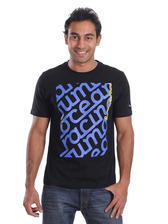clothoes: (28, 57, 135, 189)
